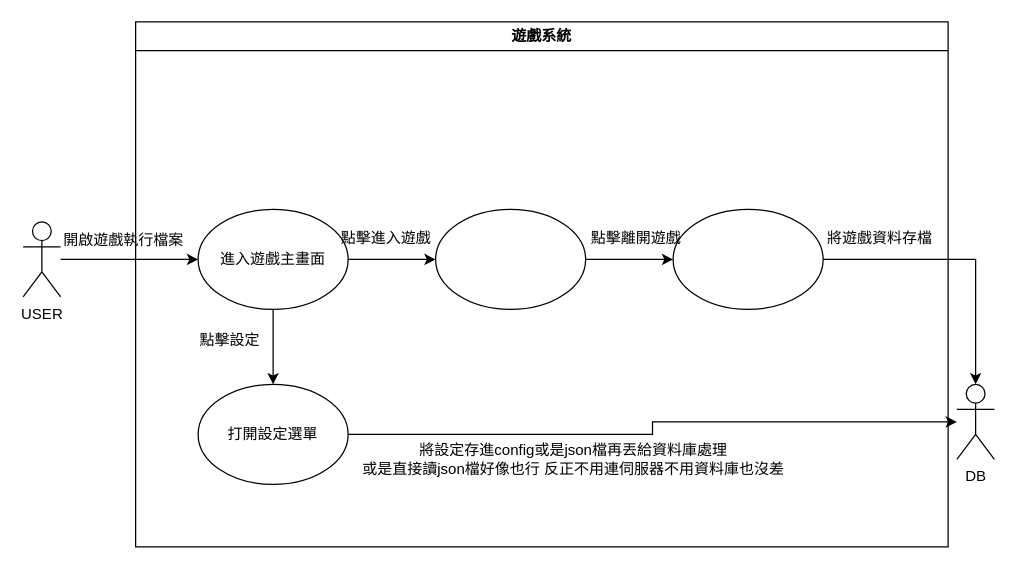
The diagram is 1016 pixels wide and 569 high, and some of its shapes have lost their labels. Each missing label, with the centre of its shape:
"開始遊戲" goes at (510,258).
"離開遊戲" goes at (747,258).
